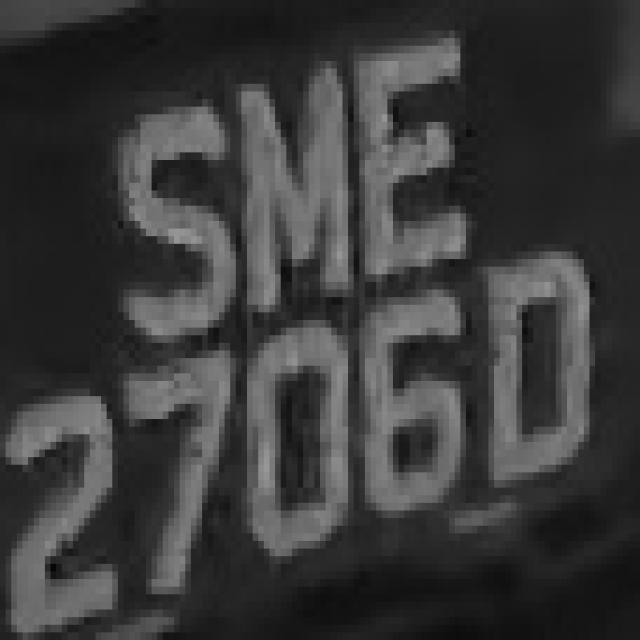0: (230, 305, 348, 579)
2: (0, 365, 146, 640)
6: (359, 282, 455, 541)
7: (107, 335, 230, 617)
D: (472, 243, 595, 488)
E: (337, 15, 477, 305)
M: (225, 53, 359, 328)
S: (96, 84, 230, 366)
